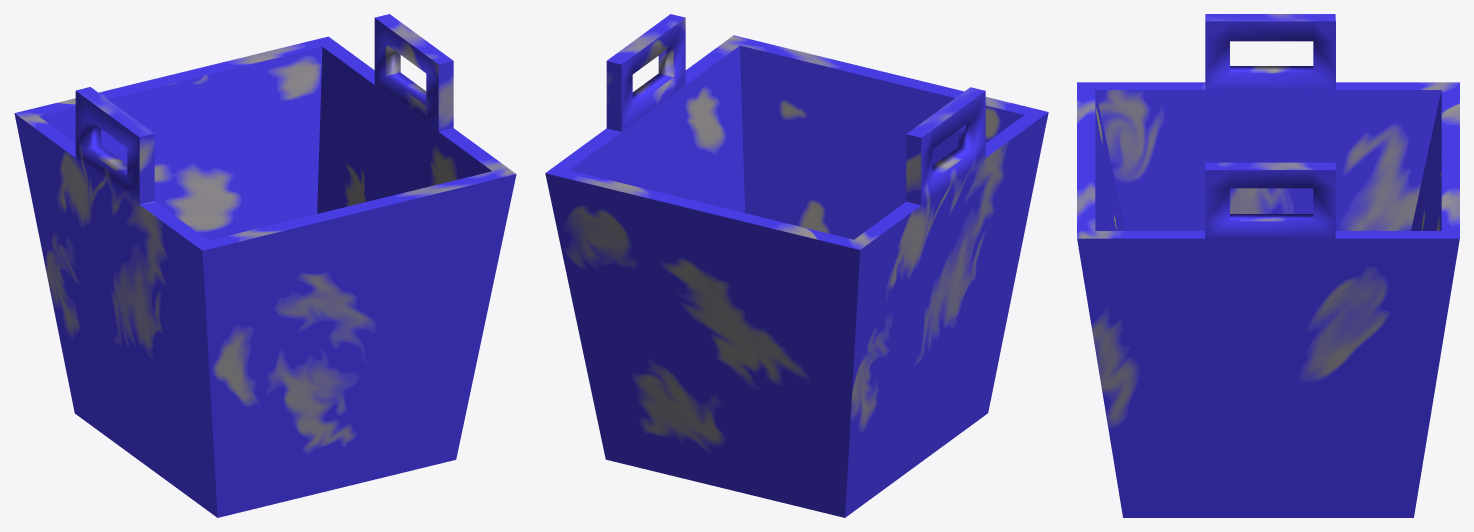
File: poon1.fbx
3 renders of one model, left to right at view 1: azimuth 30°, elevation 25°; view 2: azimuth 150°, elevation 25°; view 3: azimuth 270°, elevation 25°, orthographic.
Visible parts, largest first — view 1: pCube2; view 2: pCube2; view 3: pCube2.
Part boxes in pixels (x1,y1,x2,y2): pCube2: [14, 14, 516, 517]; pCube2: [545, 14, 1048, 517]; pCube2: [1077, 14, 1459, 517].
Size of the model in its own units: 2.08 by 2.28 by 2.16.
